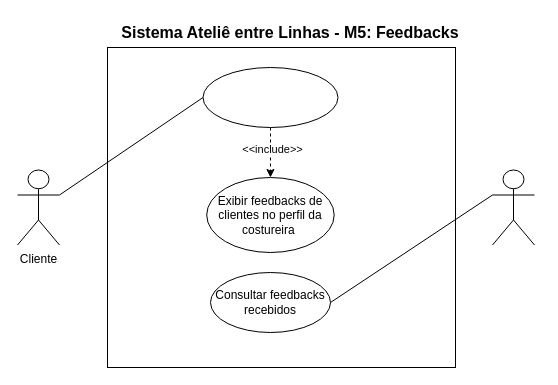
This 558x385 diagram has some shape labels left out. The shapes that lost their labels are listed below. From the top down, each one's box as (x1, y1, x2, y2) in pixels, then its label:
(202, 66, 338, 128): Avaliar serviço da costureira
(492, 169, 534, 245): Costureira
